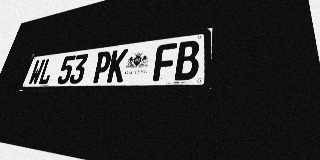3: (68, 54, 89, 84)
5: (56, 55, 76, 84)
B: (174, 40, 200, 80)
F: (153, 43, 177, 81)
K: (106, 49, 129, 83)
L: (37, 58, 56, 85)
P: (91, 51, 113, 83)
W: (27, 59, 46, 85)
